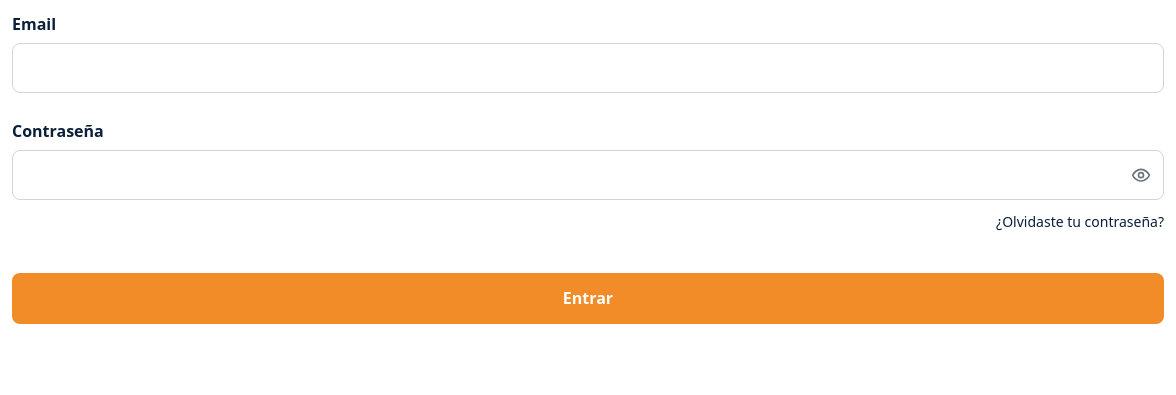
it: AdminLoginForm › shows an alert when the credentials are wrong
Step 1. Type "admin@bg.es" into the field with id "login-email" → (588, 68), box left=12, top=43, right=1164, bottom=93
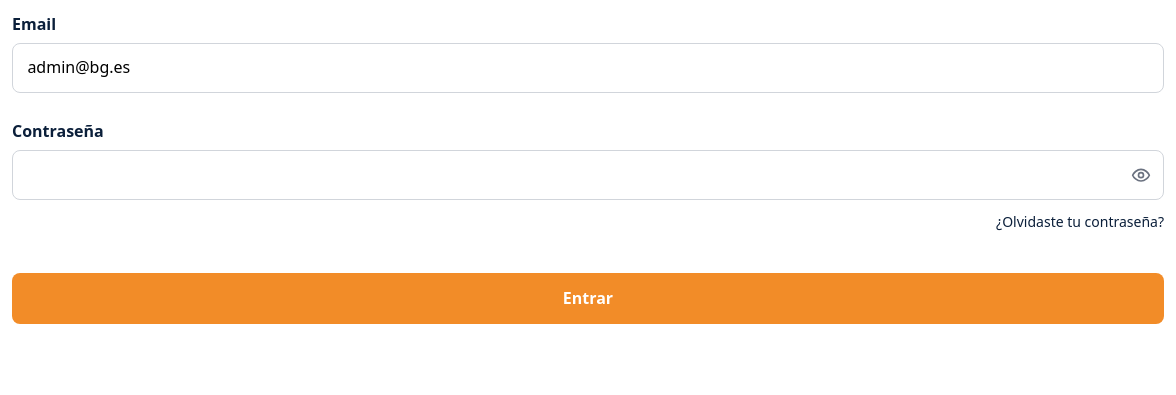
Step 2. Type "wrong-pass" into the password field with id "login-password" → (588, 175), box left=12, top=150, right=1164, bottom=200
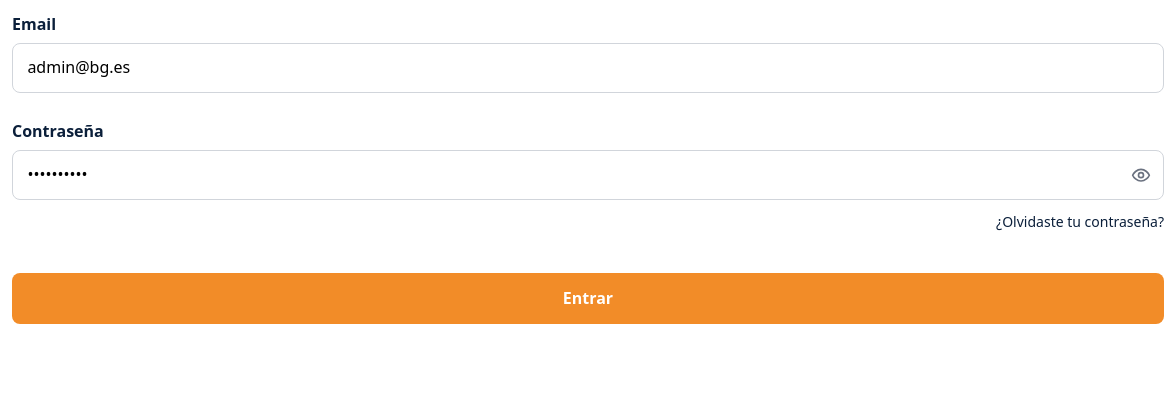
Step 3. Submit the form
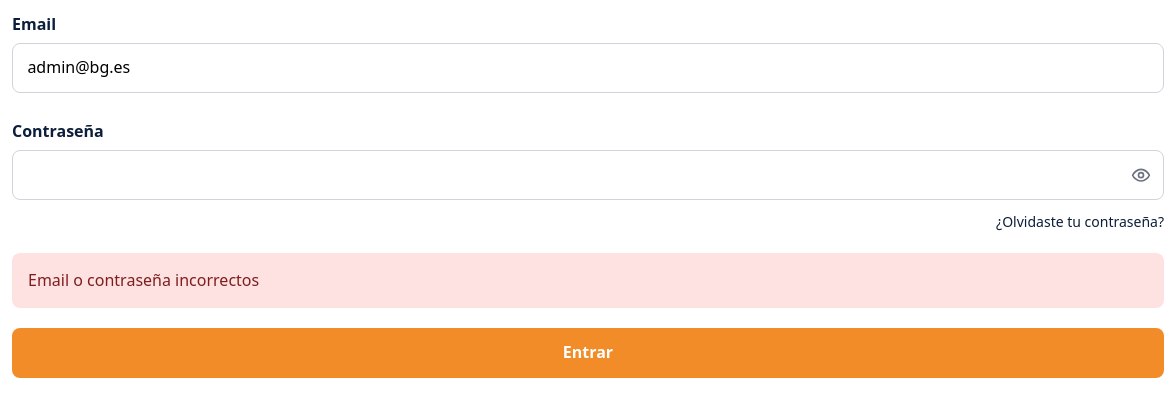
Expected: the message "Email o contraseña incorrectos" is shown, left=12, top=254, right=1164, bottom=308
